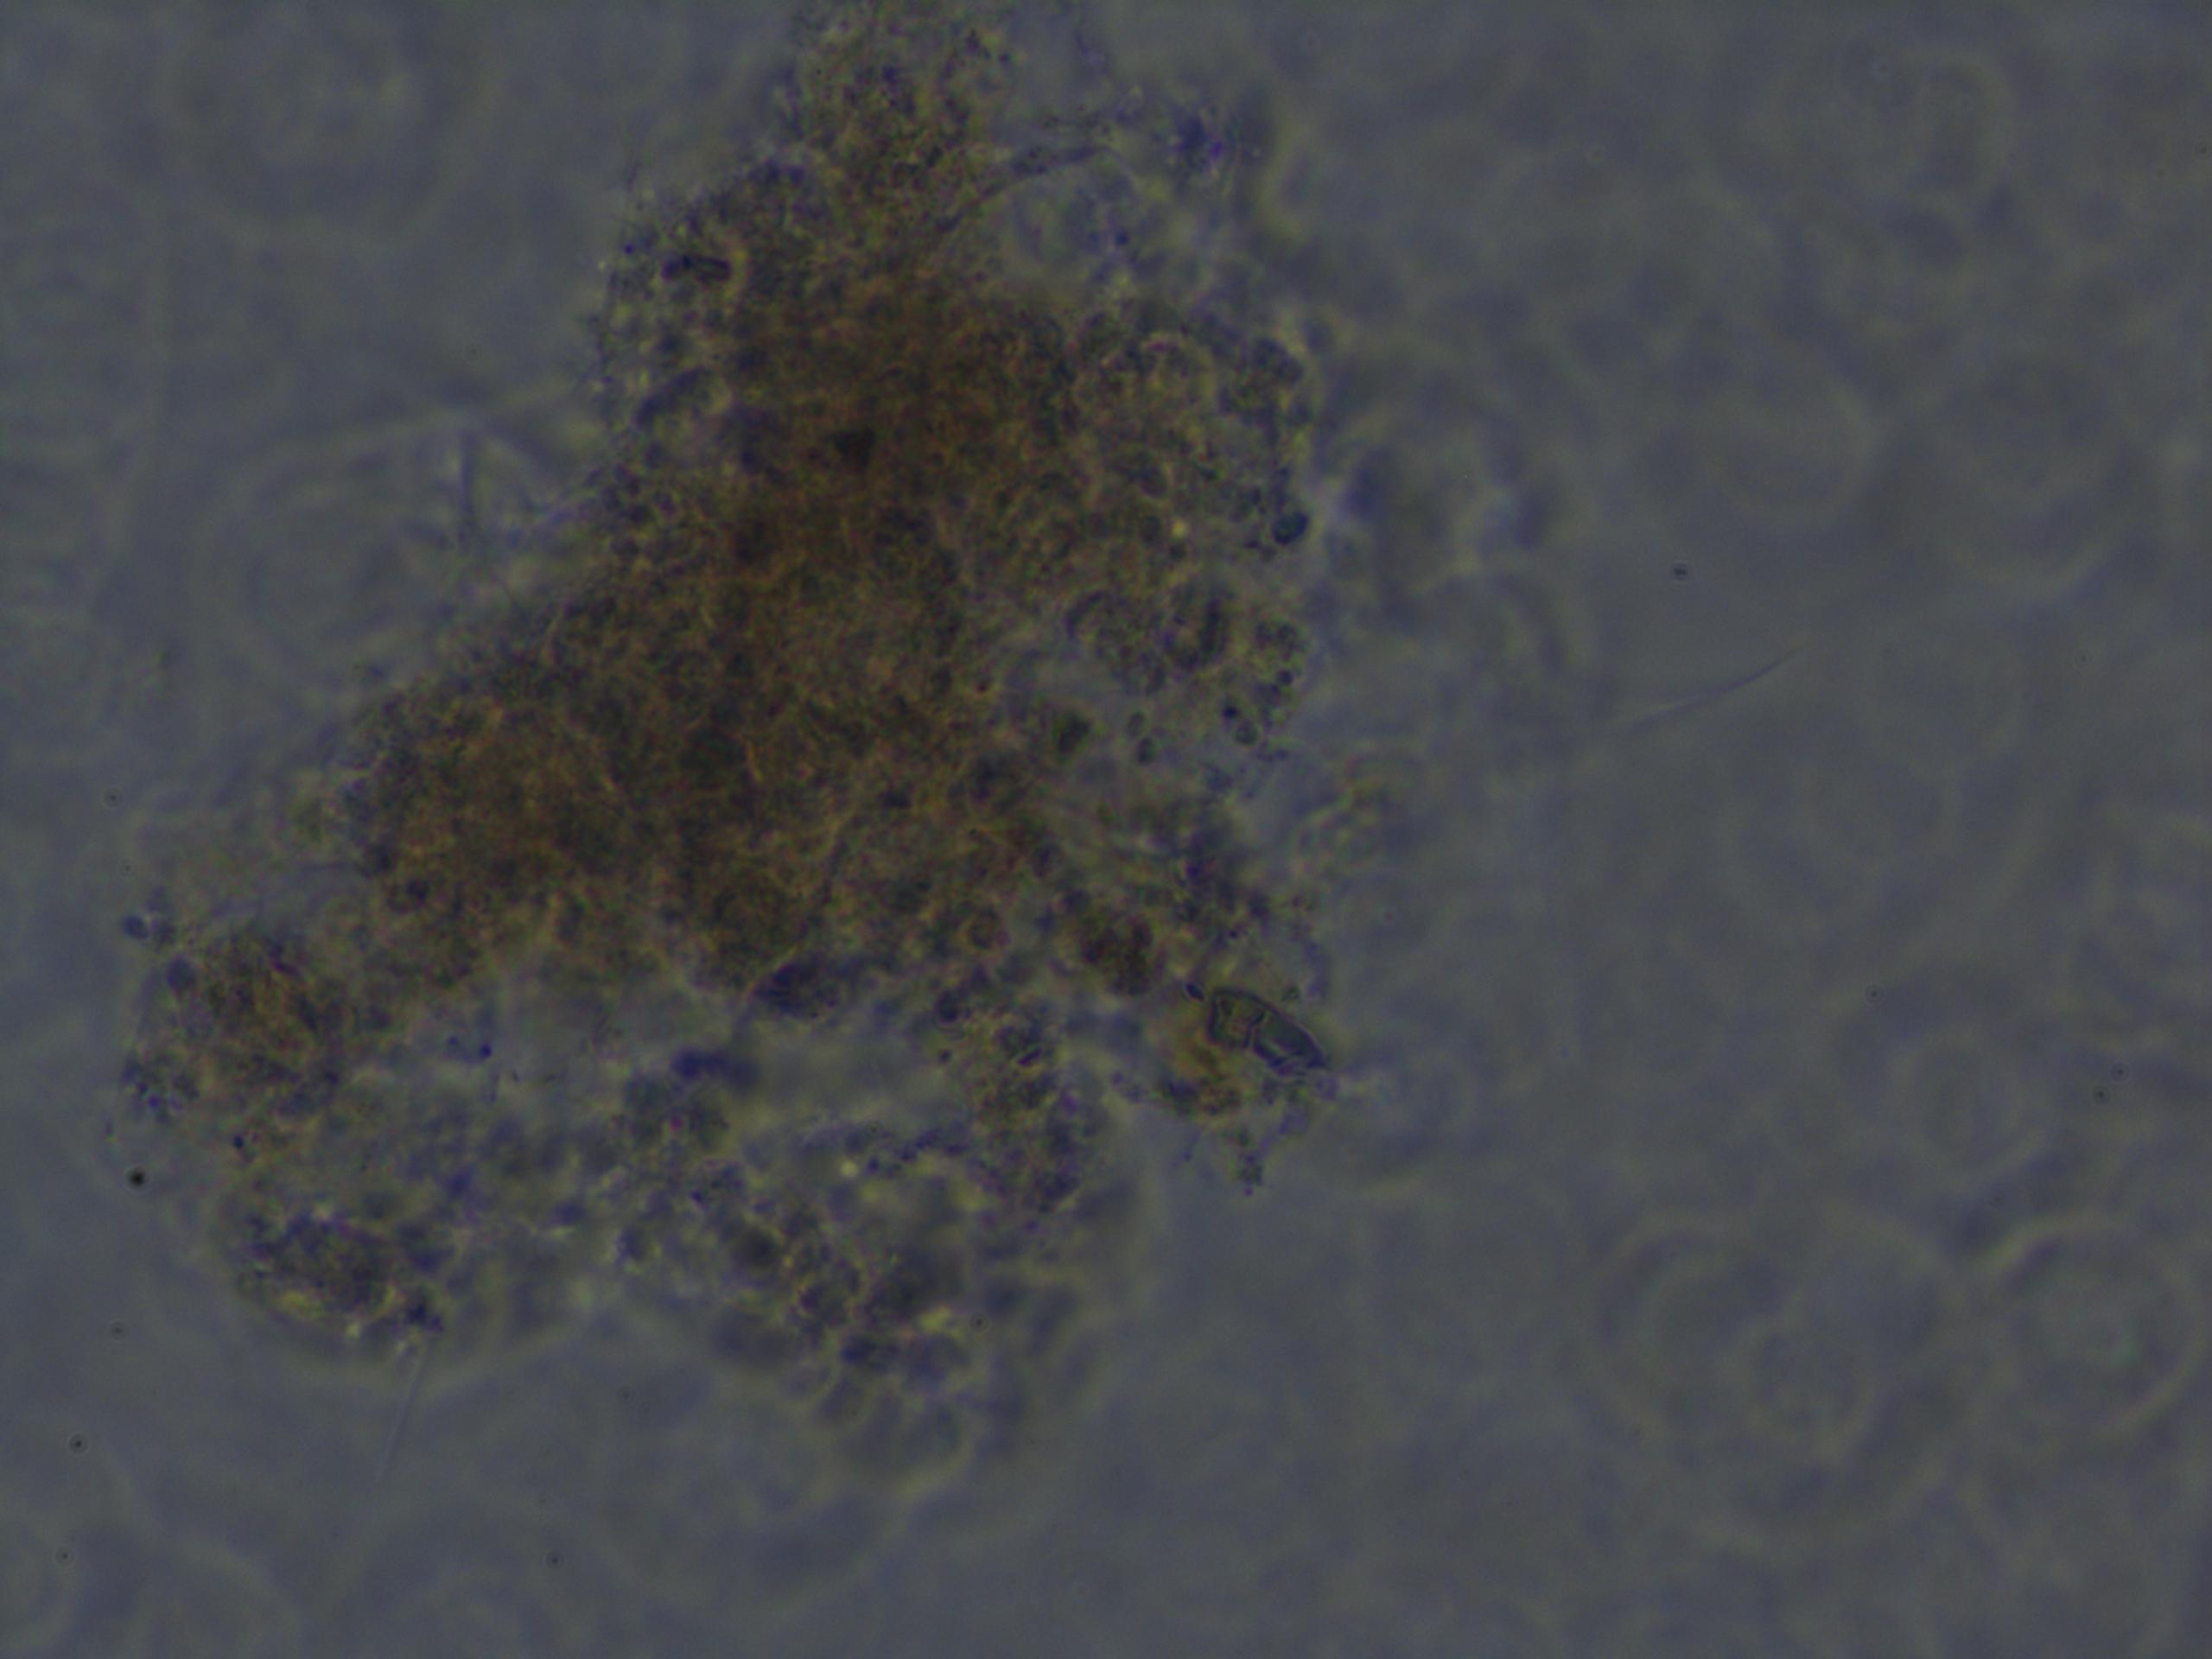open_floc: (113, 2, 1360, 1436)
